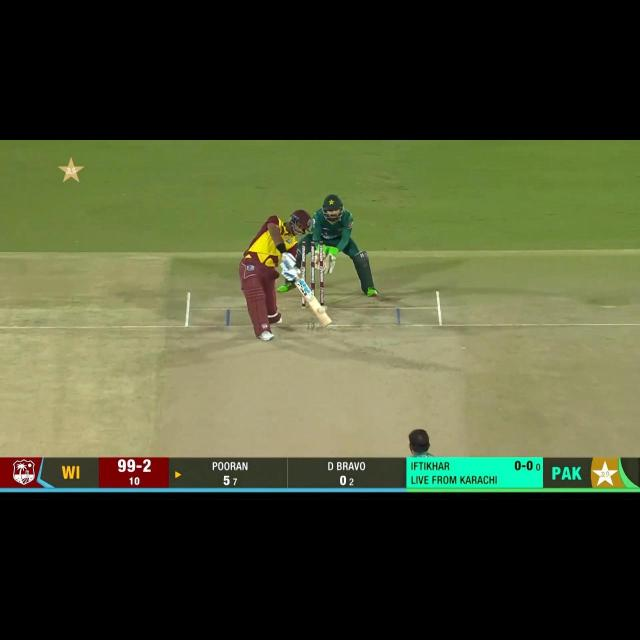bat: (296, 275, 332, 328)
toe: (319, 314, 334, 328)
